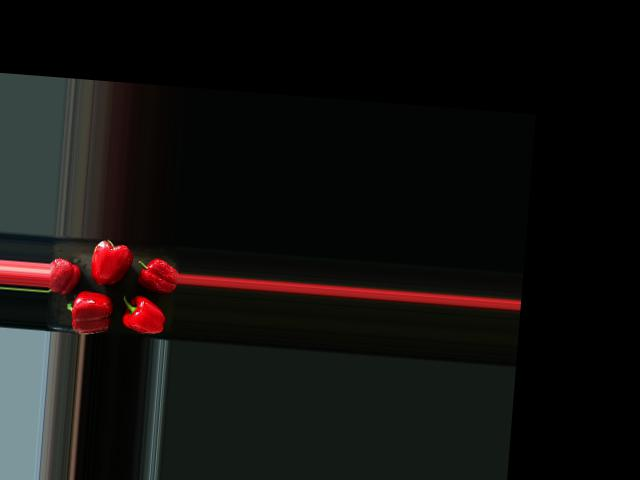bell_pepper: (48, 251, 83, 297)
